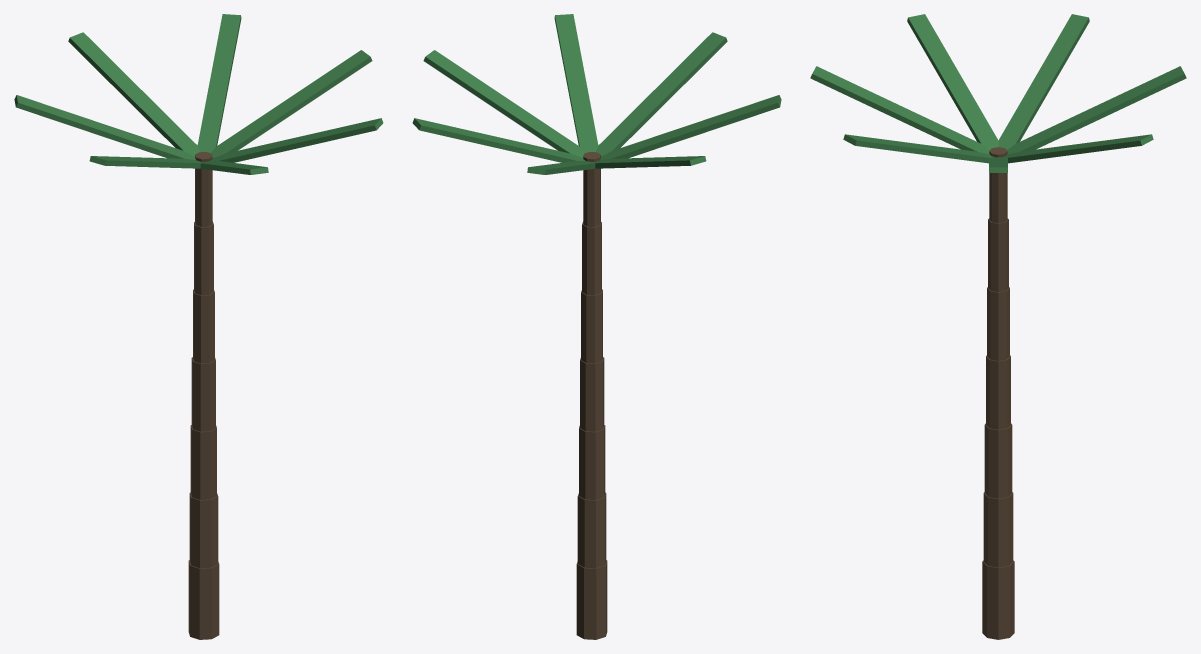
The model's file is tree_palm.glb.
3 renders of one model, left to right at view 1: azimuth 30°, elevation 25°; view 2: azimuth 150°, elevation 25°; view 3: azimuth 270°, elevation 25°, orthographic.
Parts seen in each view (by area): view 1: tree_palm; view 2: tree_palm; view 3: tree_palm.
Boxes of the visible parts, bbox=[...] form: tree_palm: bbox=[14, 14, 383, 639]; tree_palm: bbox=[412, 14, 781, 639]; tree_palm: bbox=[810, 14, 1186, 639].
Size of the model in its own units: 1.95 by 3.19 by 2.
